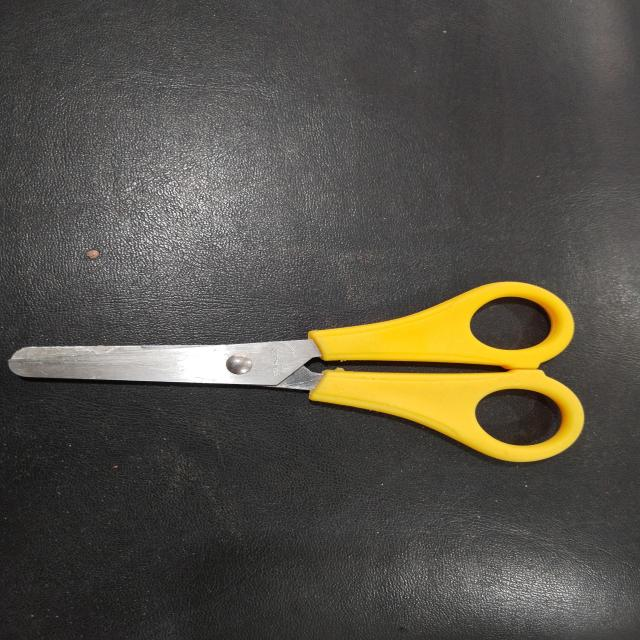Other Objects: (5, 274, 605, 528)
